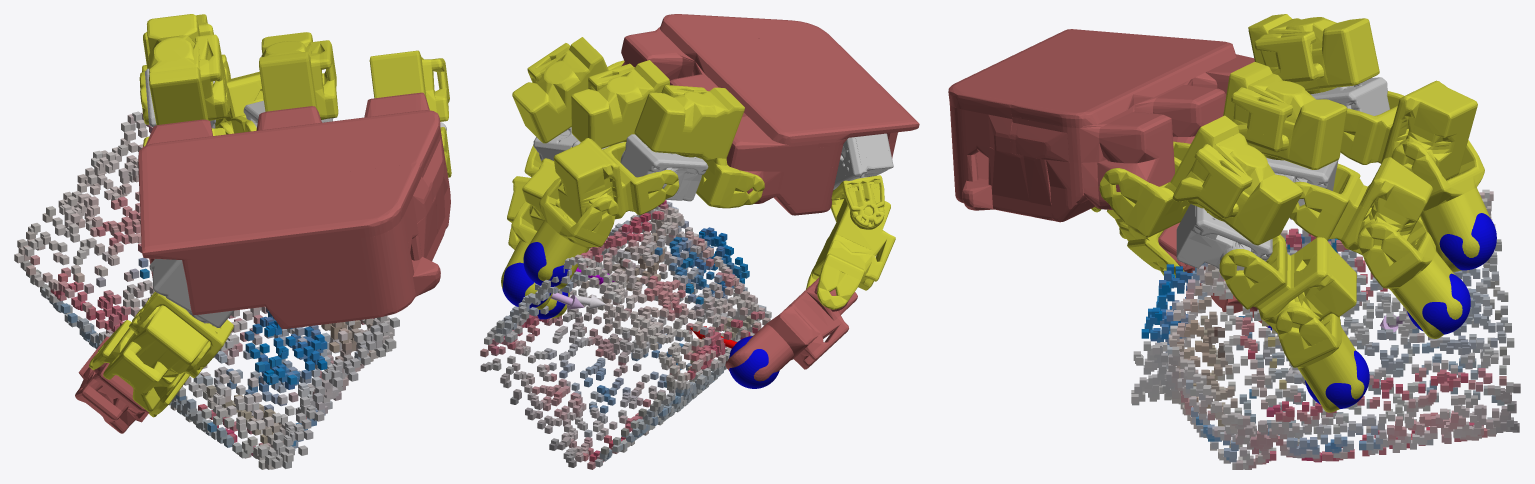
The model's file is hand_opt_res_obj.glb.
3 views of the same model, side by side, from view 1: azimuth 30°, elevation 25°; view 2: azimuth 150°, elevation 25°; view 3: azimuth 270°, elevation 25° (orthographic). The views are drawn at different scales.
Parts seen in each view (by area): view 1: world; view 2: world; view 3: world.
Part boxes in pixels (<box>): world: <box>14,14,451,469</box>; world: <box>480,14,919,469</box>; world: <box>948,14,1520,469</box>.
Size of the model in its own units: 0.1873 by 0.1942 by 0.2363.
